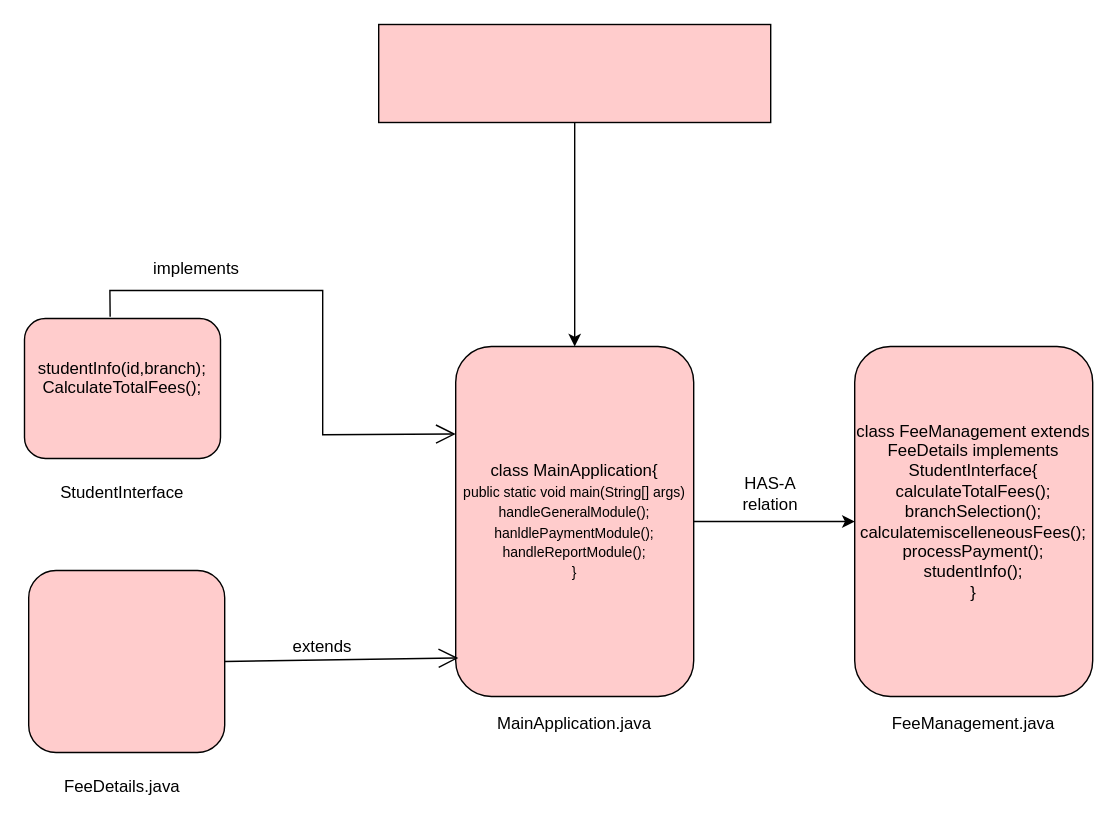
The diagram is 1117 pixels wide and 833 high, and some of its shapes have lost their labels. The centre of each missing label's shape, as x and y in pixels:
"//abstractmethod calculateTotalFees(); //concrete method dispalyFees();" belongs at (126,660).
"Application-3 Fee Management System" belongs at (574,72).
